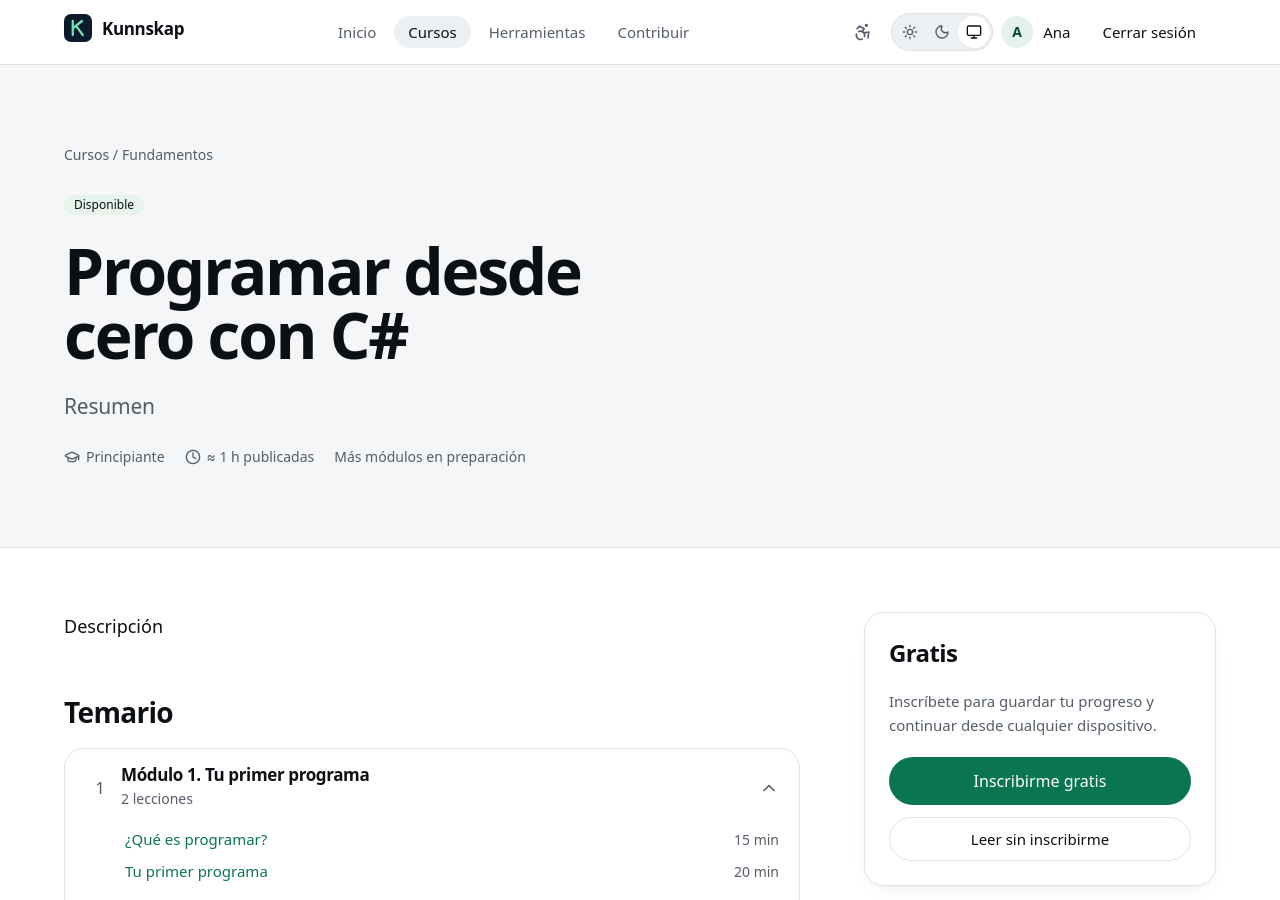
Scenario: detalle de un curso publicado › inscribe gratis con el token antiforgery y muestra el progreso
This screenshot has width=1280, height=900.
Click the button "Inscribirme gratis" at (1040, 780), box [889,756,1191,804]
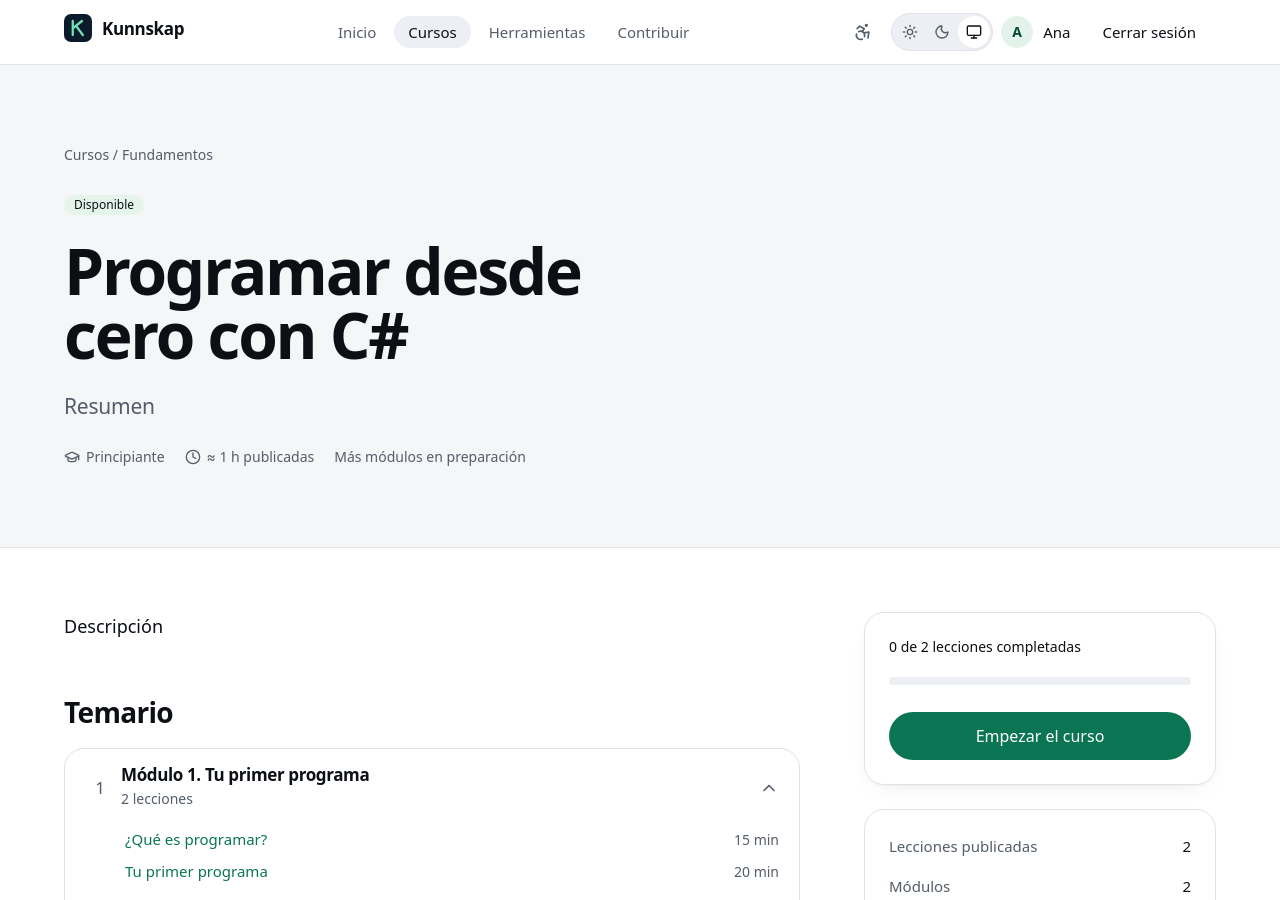
Expected: the text "0 de 2 lecciones completadas" is shown, [889,636,1081,656]
Expected: the link "Empezar el curso" is shown, [889,712,1191,760]
